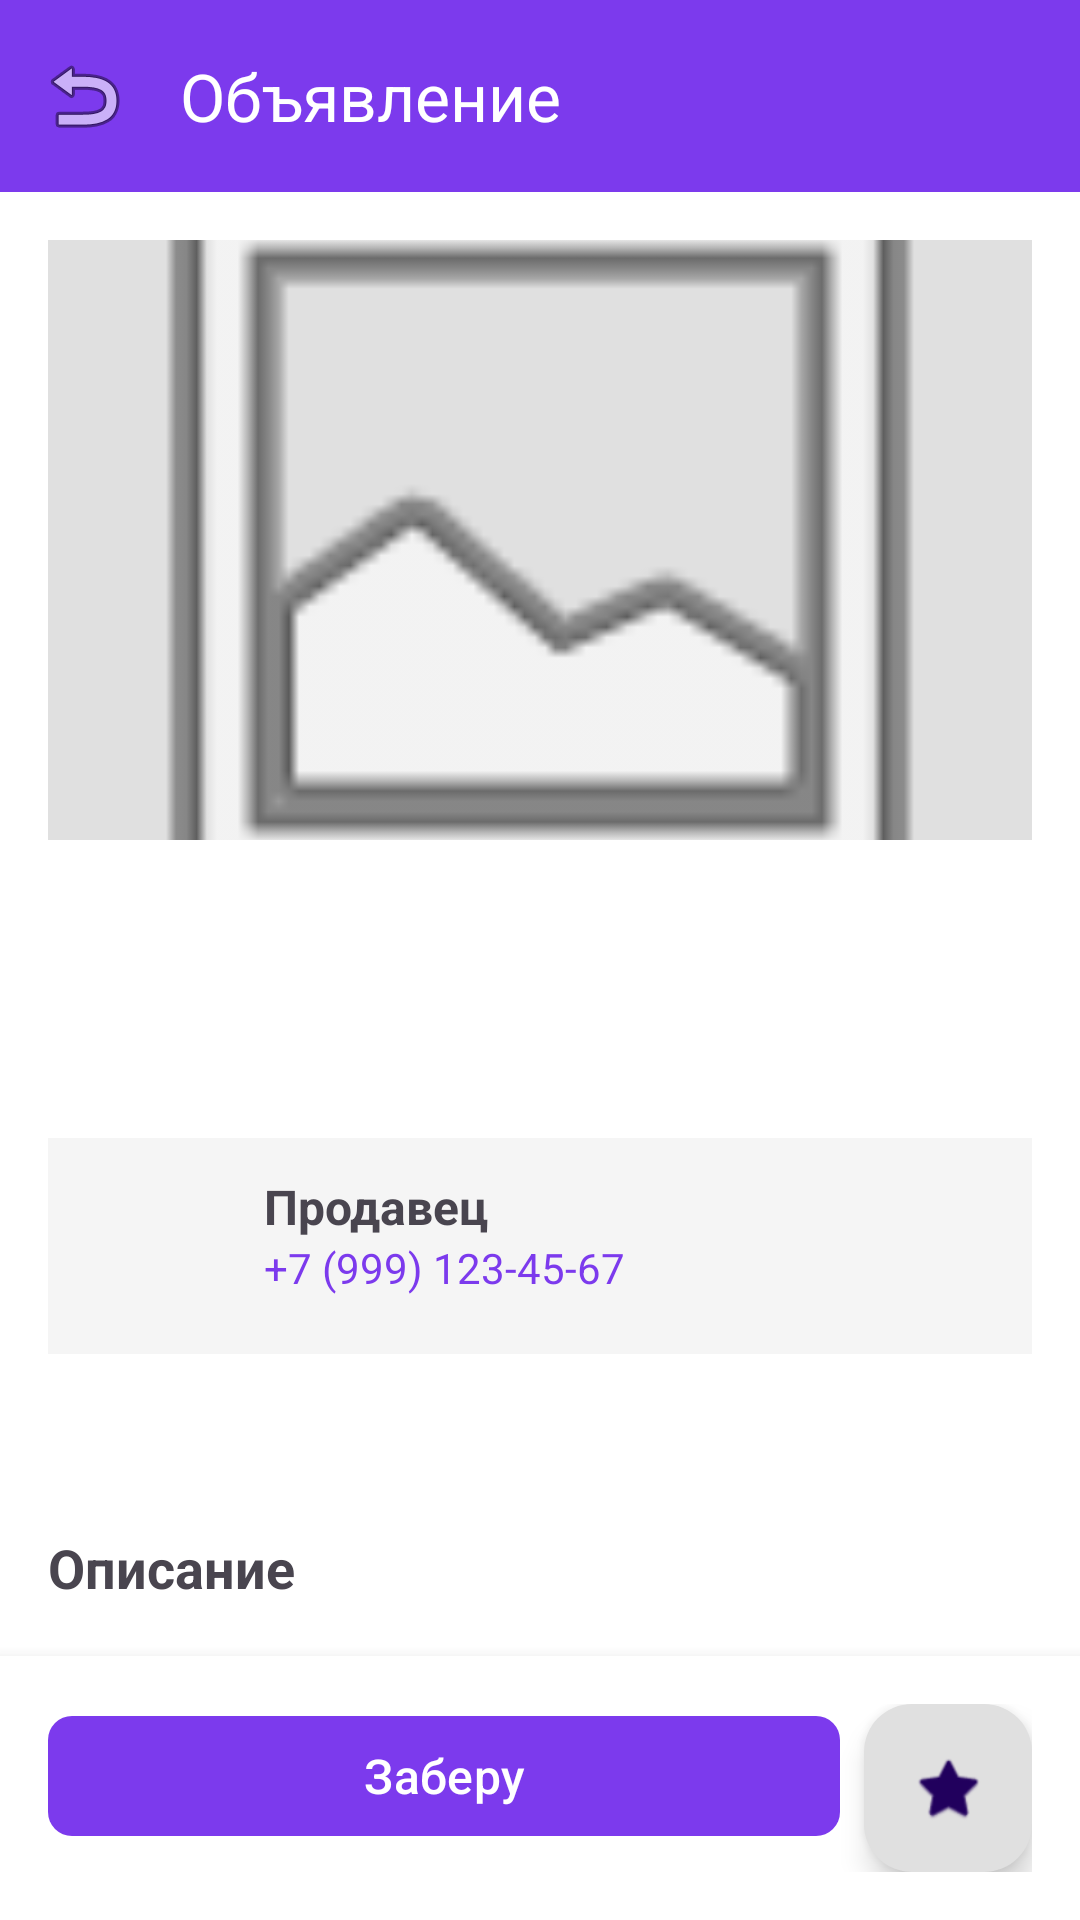

Screen size 1080px×1920px. Icon name, then its box in pixels as (x1, y1, x2, y2):
В избранное: (864, 1704, 1032, 1872)
